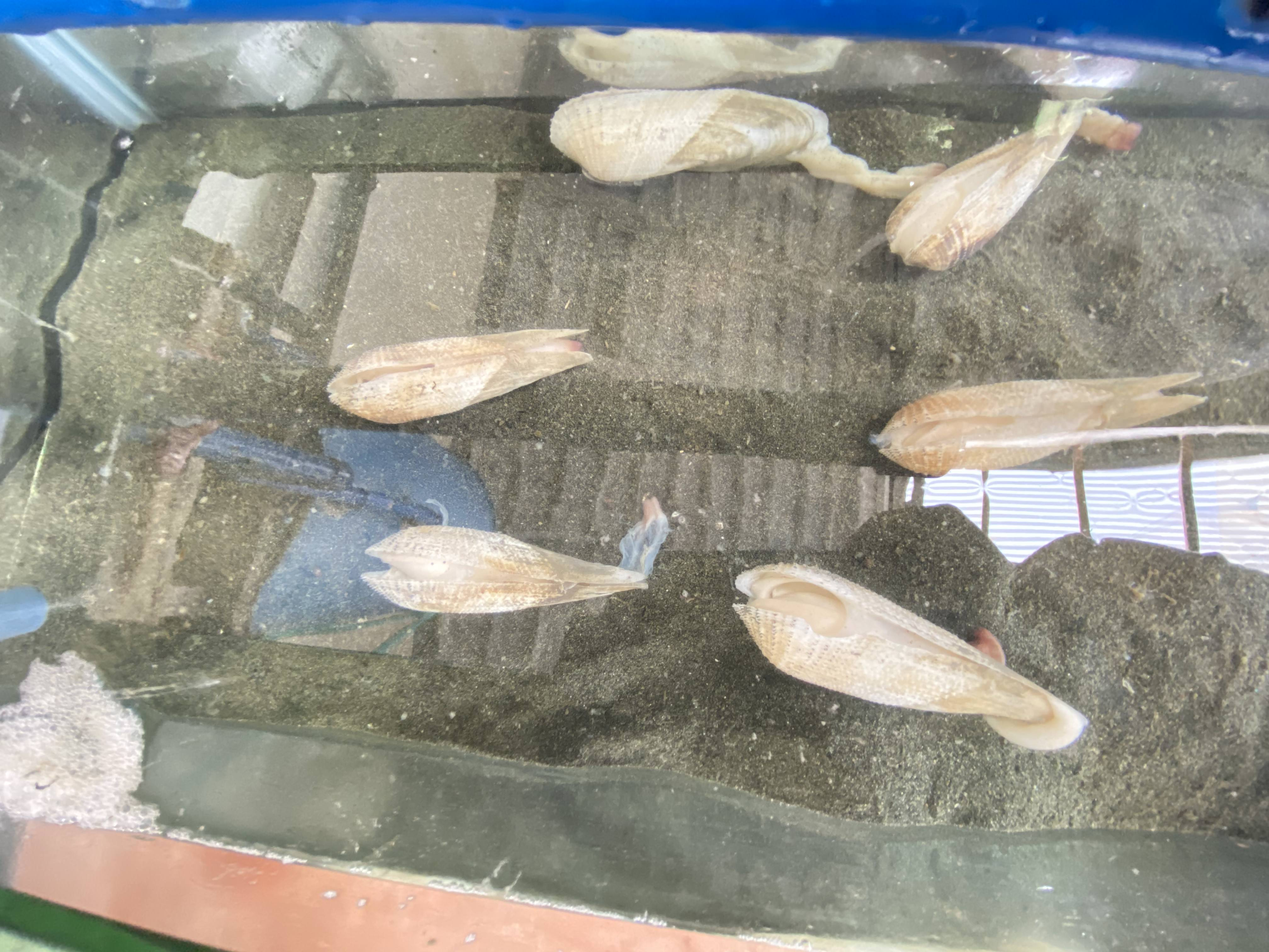At risk: (733, 563, 1087, 751), (885, 99, 1141, 270), (550, 89, 943, 197), (363, 499, 668, 613), (877, 372, 1200, 477), (328, 329, 592, 423), (888, 132, 1042, 266)
